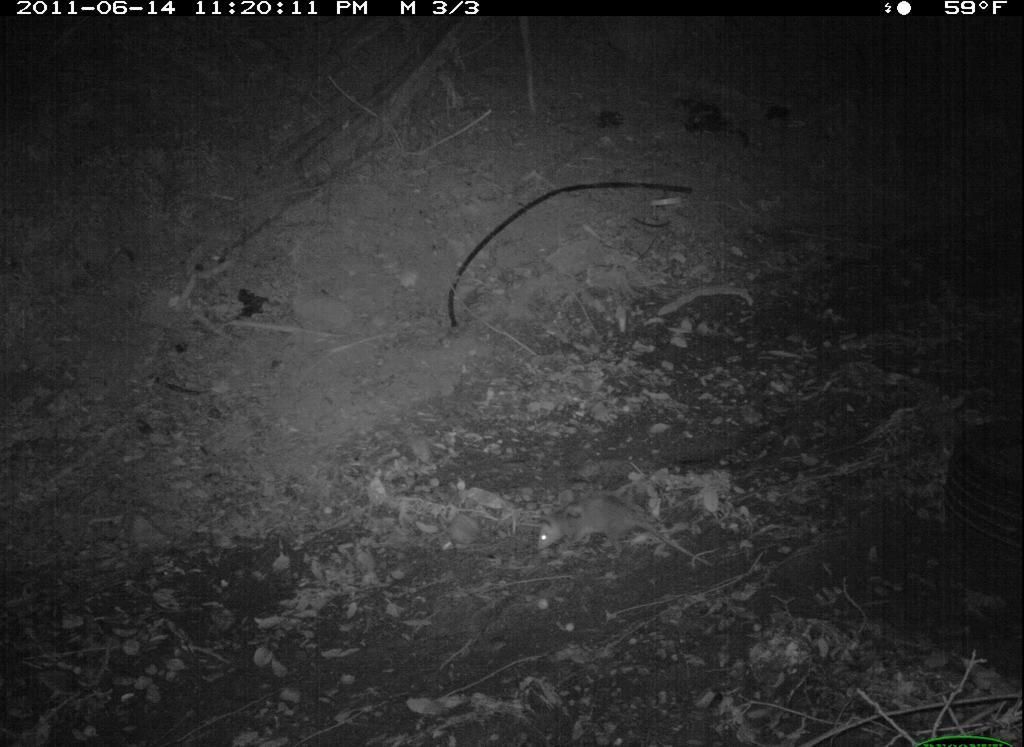opossum: (530, 487, 724, 594)
